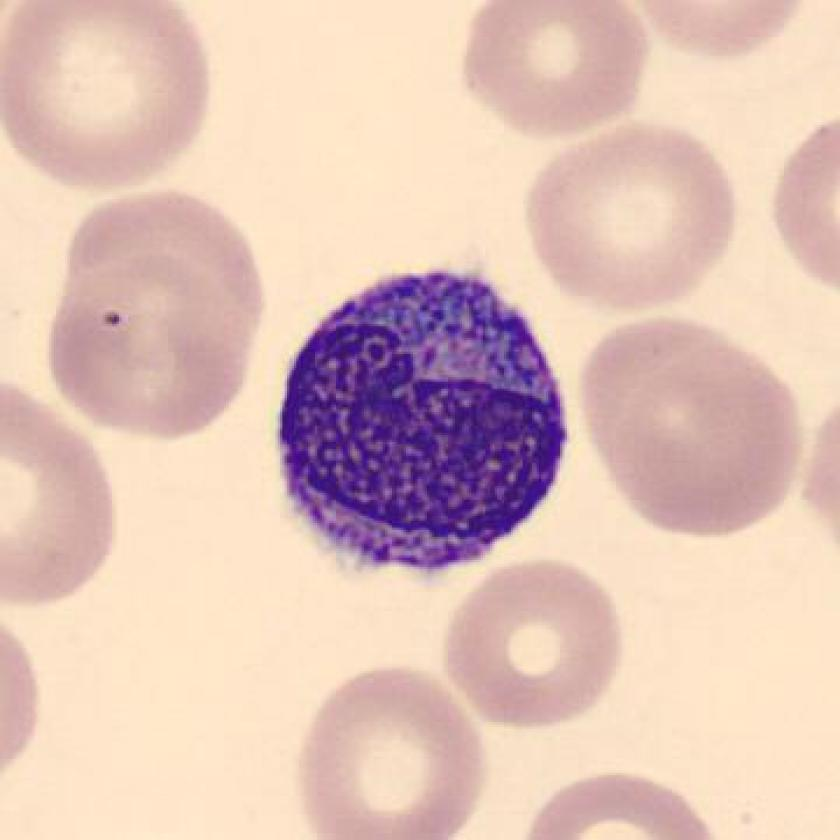monocyte: (246, 240, 594, 601)
